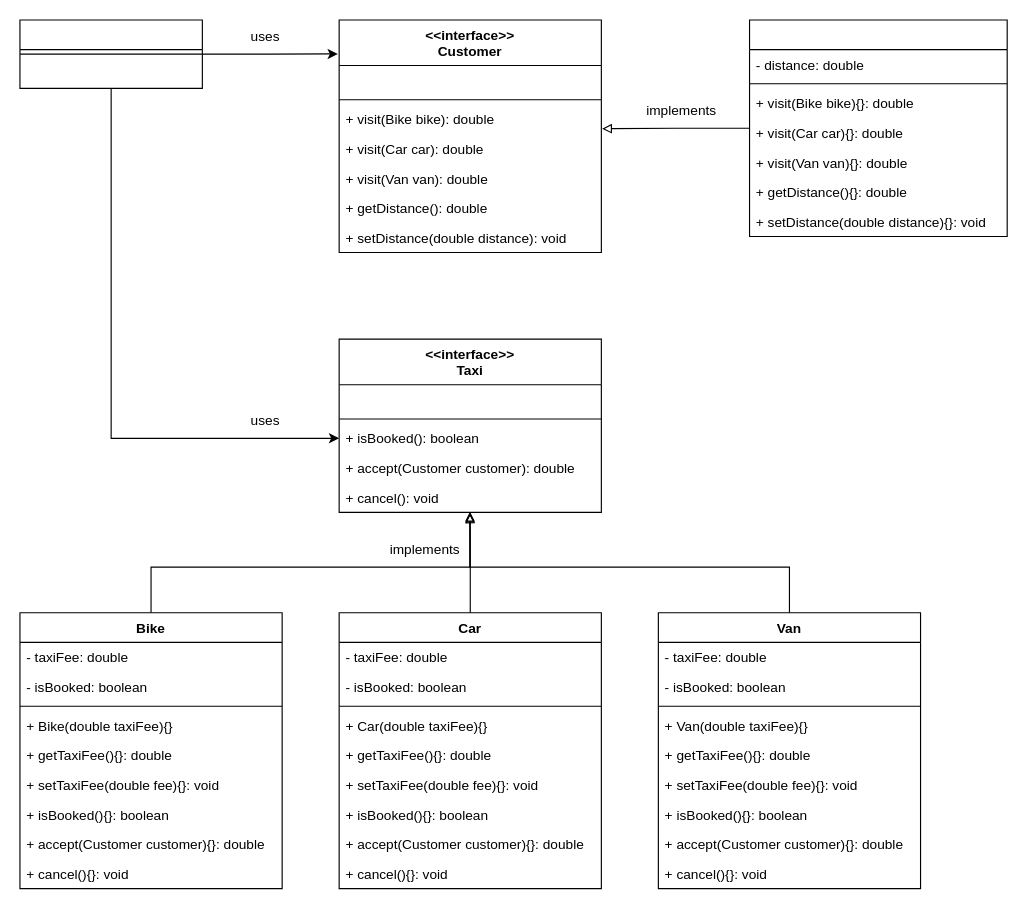
Image size: 1027x912. Some labels were removed from this diagram. Here are the shapes that lost their labels. From the top down, the box of each, then its label:
(19, 19, 202, 88): TaxiBooking
(748, 19, 1007, 237): CustomerImpl
